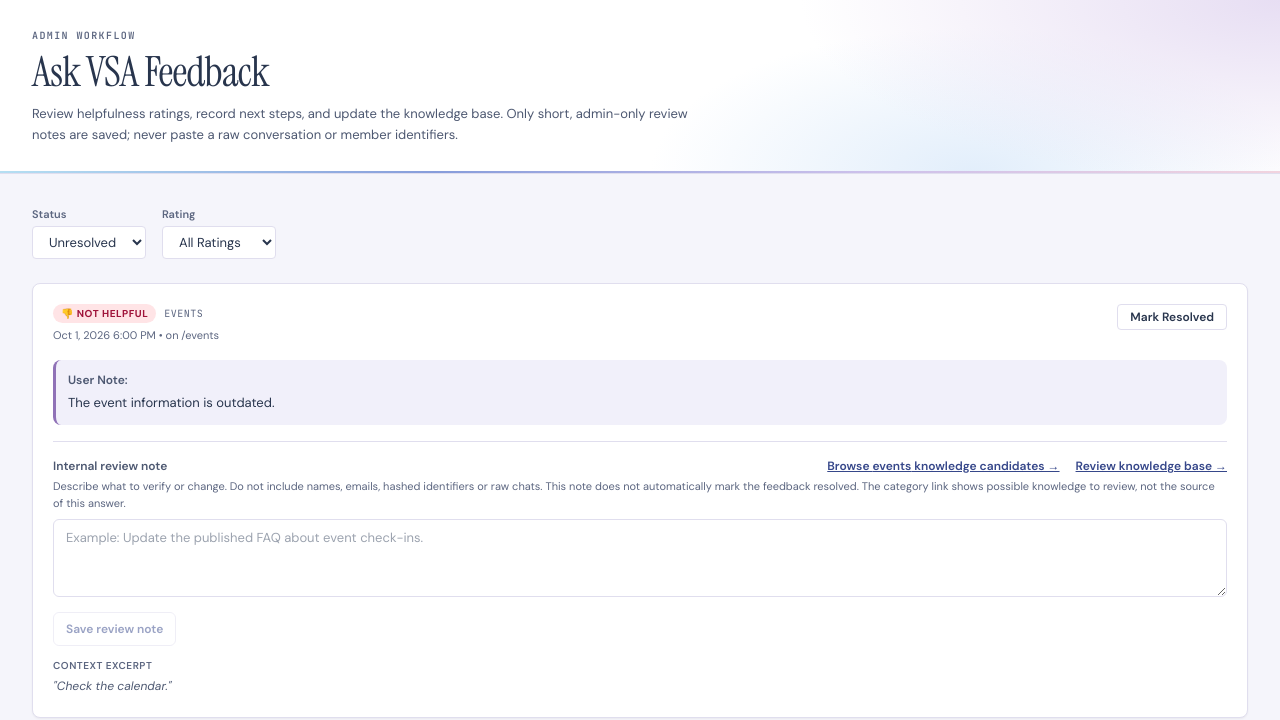
Scenario: Ask VSA feedback: private review notes (#237) › reopens resolved feedback for continued review while keeping the item in All
Expected: the button "Mark Resolved" is shown, [1117,304,1227,330]
Select "All" in the dropdown labelled "Status": (89, 243) [32,226,146,259]
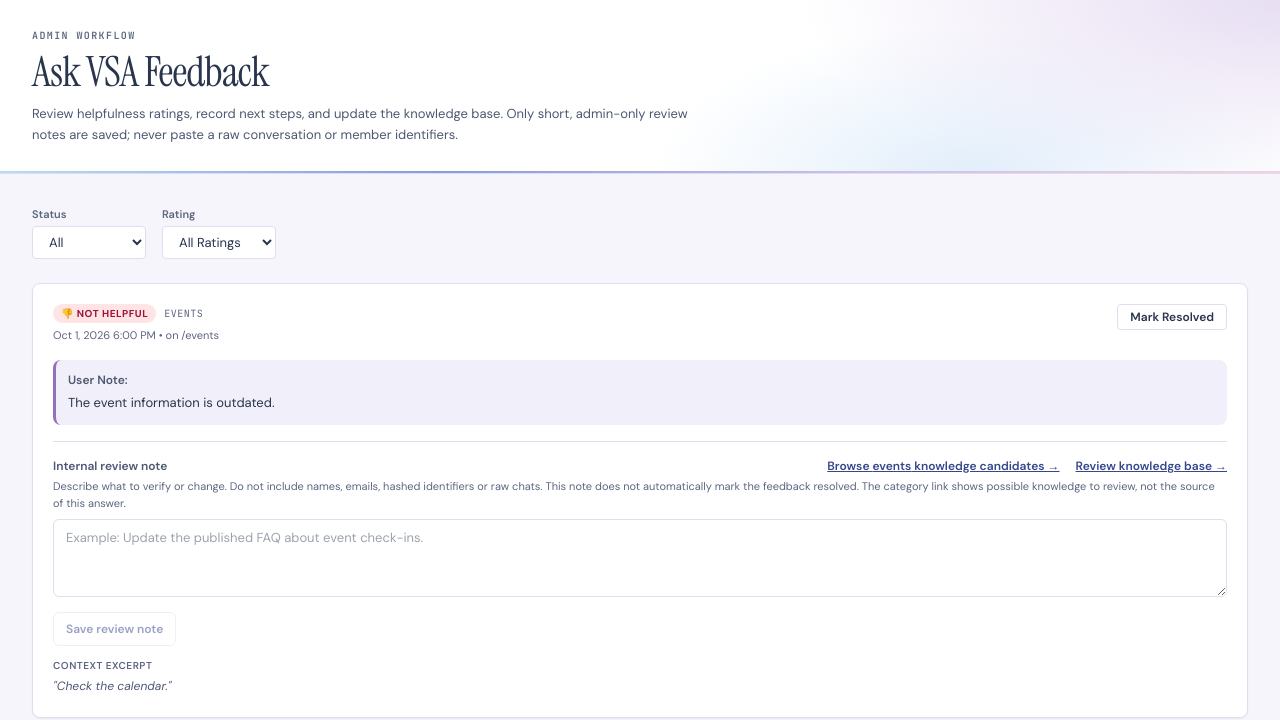
Click the button "Mark Resolved": (1172, 317) [1117,304,1227,330]
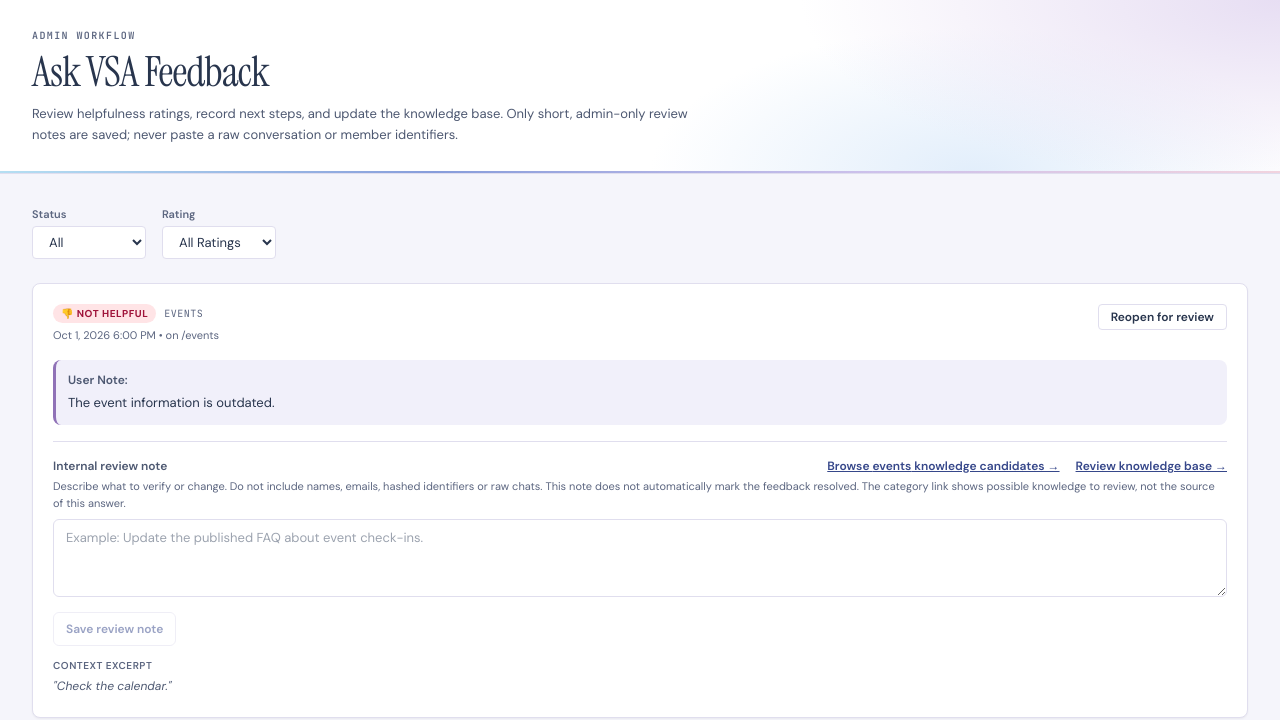
Expected: the button "Reopen for review" is shown
Click the button "Reopen for review": (1162, 317) [1098,304,1227,330]
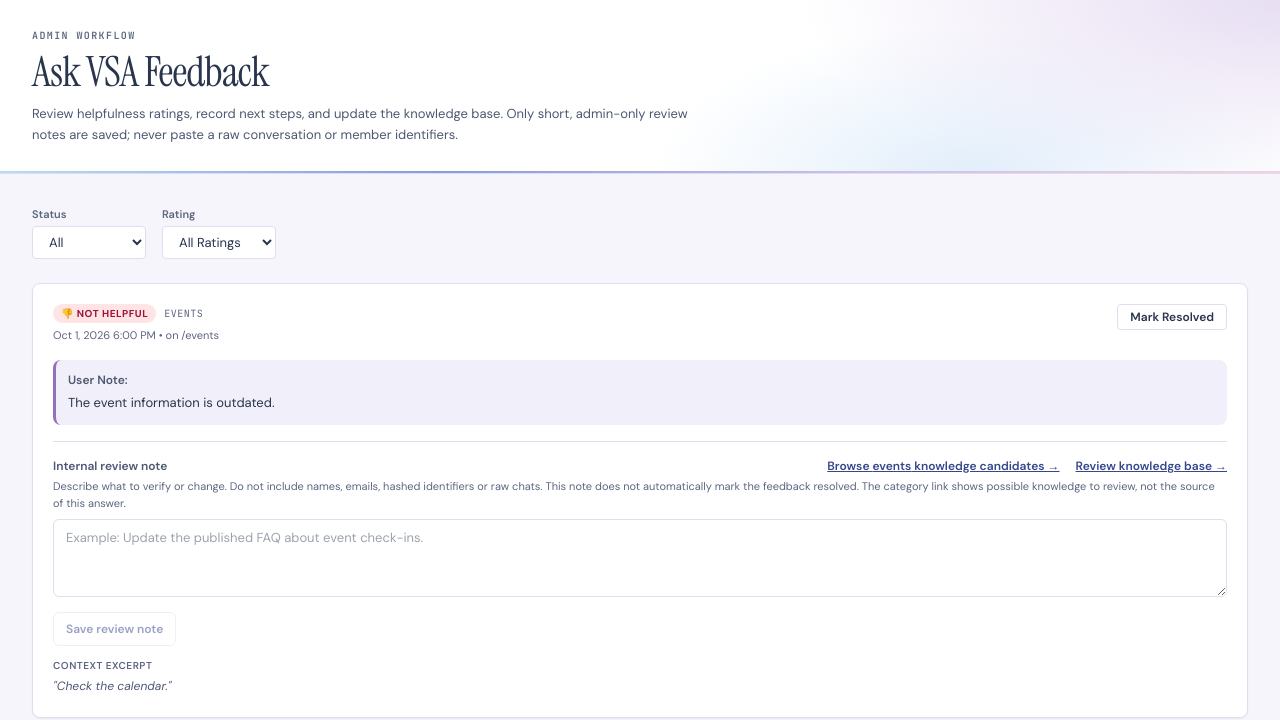
Expected: the button "Mark Resolved" is shown, [1117,304,1227,330]
